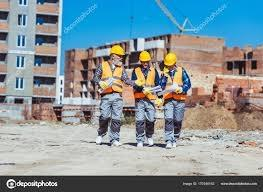Vest: (162, 67, 189, 101), (133, 66, 158, 98), (99, 61, 124, 92)
